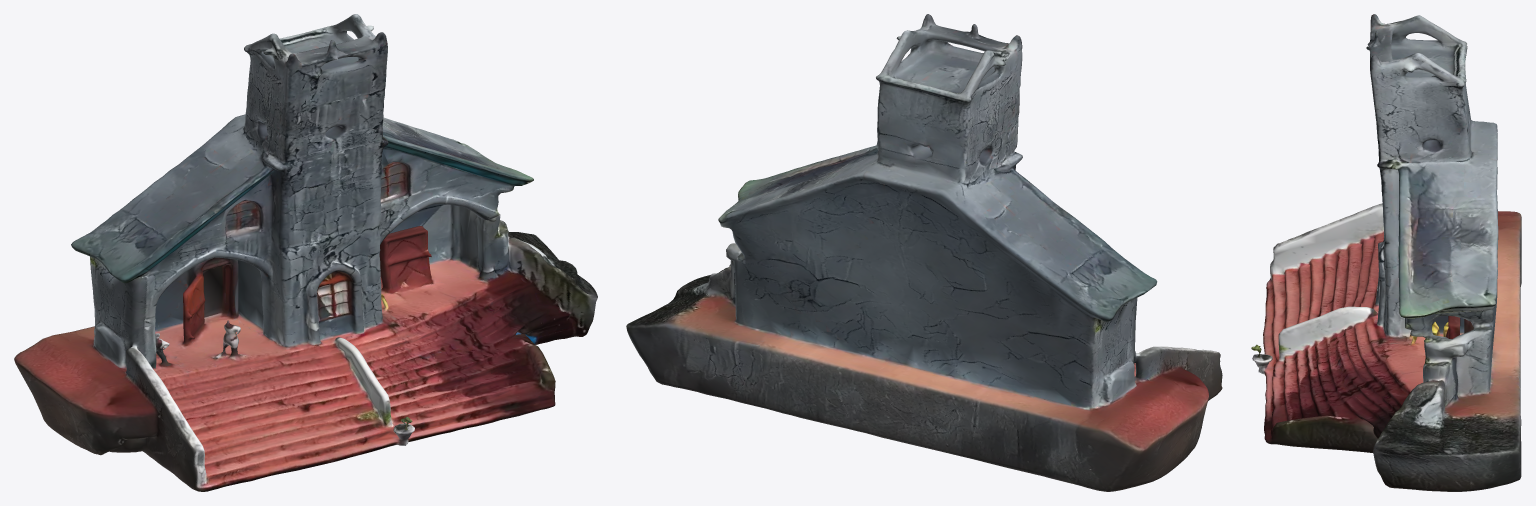
File: providence.v1.glb
3 renders of one model, left to right at view 1: azimuth 30°, elevation 25°; view 2: azimuth 150°, elevation 25°; view 3: azimuth 270°, elevation 25°, orthographic. The views are drawn at different scales.
Visible parts, largest first — view 1: model; view 2: model; view 3: model.
Boxes of the visible parts, box(x1,y1,x2,y2) form: model: box(14, 14, 597, 491); model: box(626, 14, 1222, 491); model: box(1251, 14, 1521, 491).
Size of the model in its own units: 36 by 24 by 17.3.
Materials: 1 (1 with a texture image).
